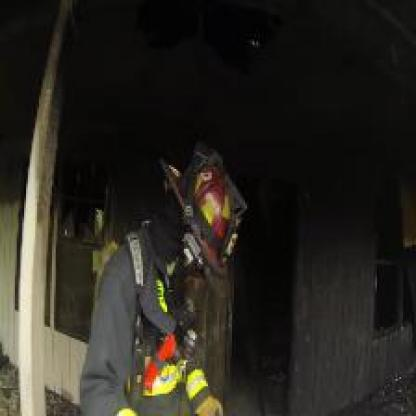other: (176, 163, 237, 239), (146, 336, 187, 397)
